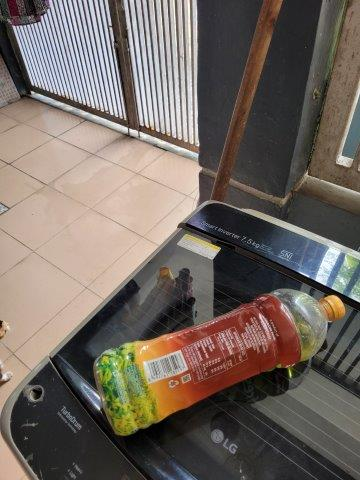botolplastik: (92, 289, 347, 434)
